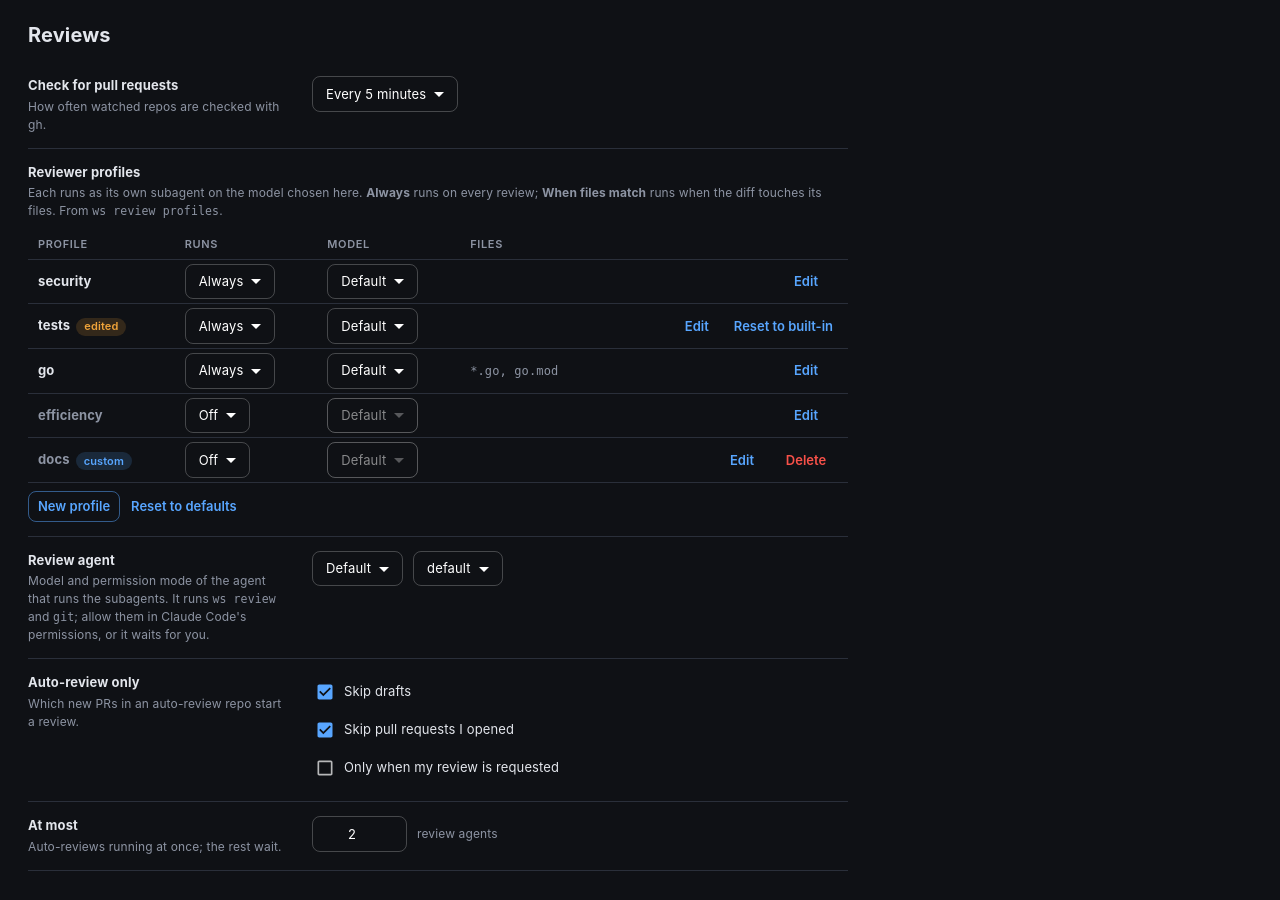
Reviewer profiles actions › deletes a custom profile, lists the profiles again, and takes the settings rm left
Expected: the text "docs" is shown, [38,451,70,467]
Expected: the dropdown named "Runs for docs" reads "Off", [199,452,218,468]
Click the button with aria-label "Delete docs" at [806, 460], box [774,445,838,476]
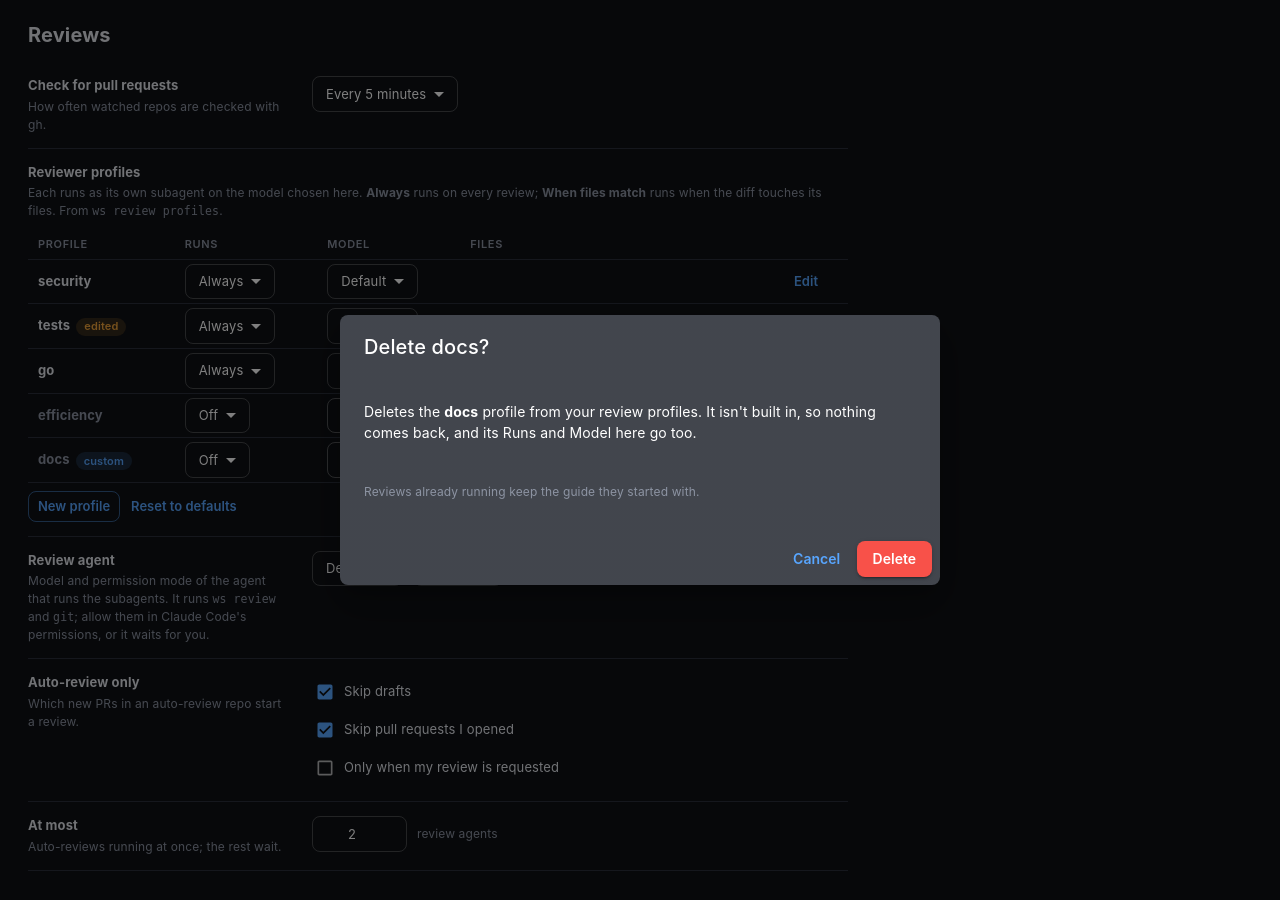
Click the button "Delete" at [894, 559], box [857,541,932,577]
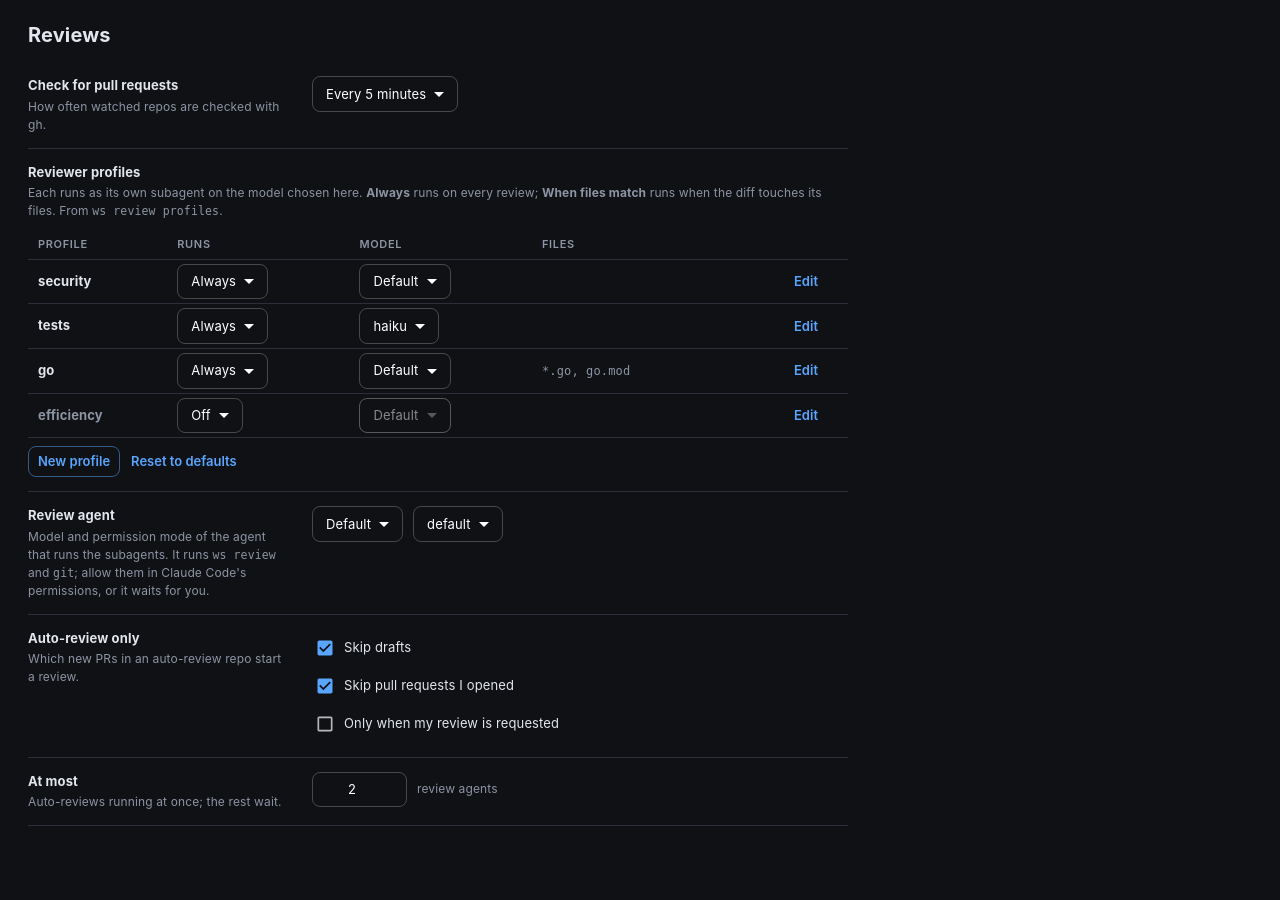
Expected: the button "Reset to defaults" is enabled, [126,446,242,477]
Expected: the text "docs" is gone
Expected: the dialog is gone
